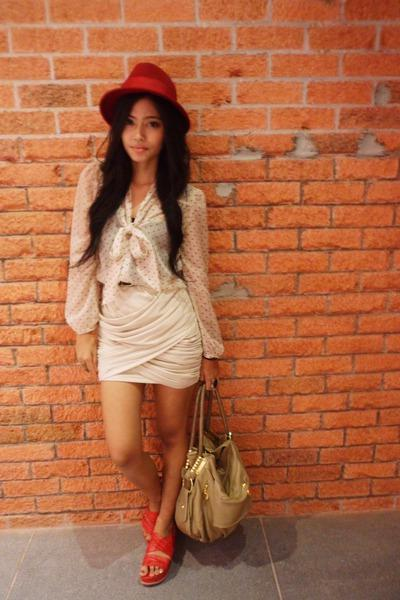long sleeve shirt: (68, 159, 226, 360)
skirt: (86, 279, 205, 387)
